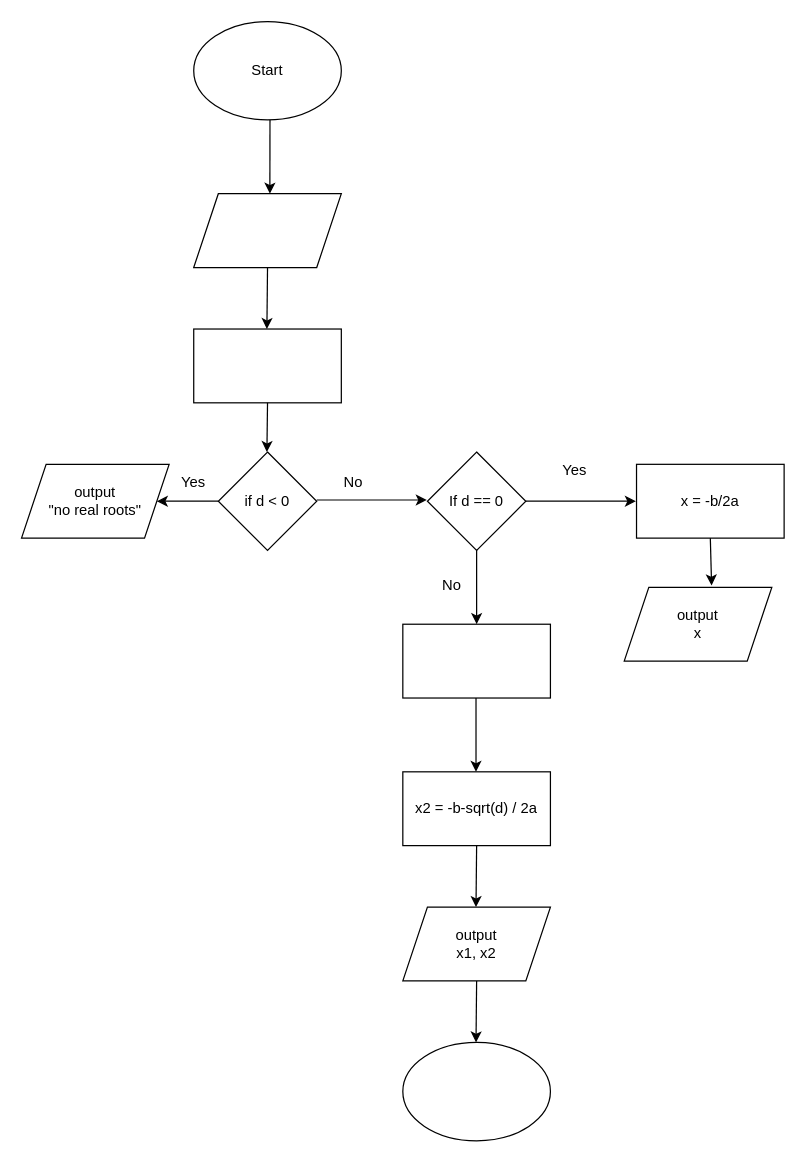
The diagram is 806 pixels wide and 1162 high, and some of its shapes have lost their labels. The shapes that lost their labels are listed below. From the top down, each one's box as (x1, y1, x2, y2) in pixels, then its label:
(192, 192, 341, 268): input a,b,c
(192, 328, 341, 403): d = b^2 - 4ac
(402, 623, 550, 698): x1 = -b + sqrt(d) / 2a
(402, 1041, 550, 1141): End
